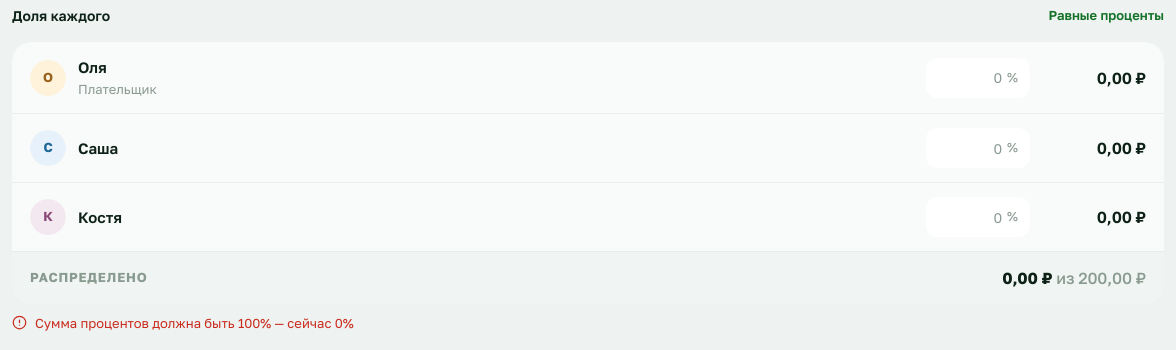
Test: SplitEditor — percentage mode › says the percentages must total 100% when they do not
Type "50" into the field named "Процент: Оля" at (978, 78), box [926,58,1030,98]
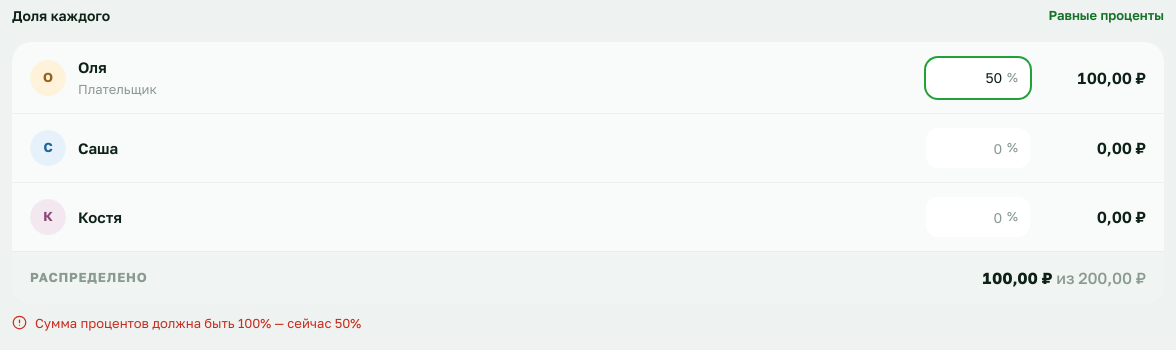
Type "30" into the field named "Процент: Саша" at (978, 148), box [926,128,1030,168]
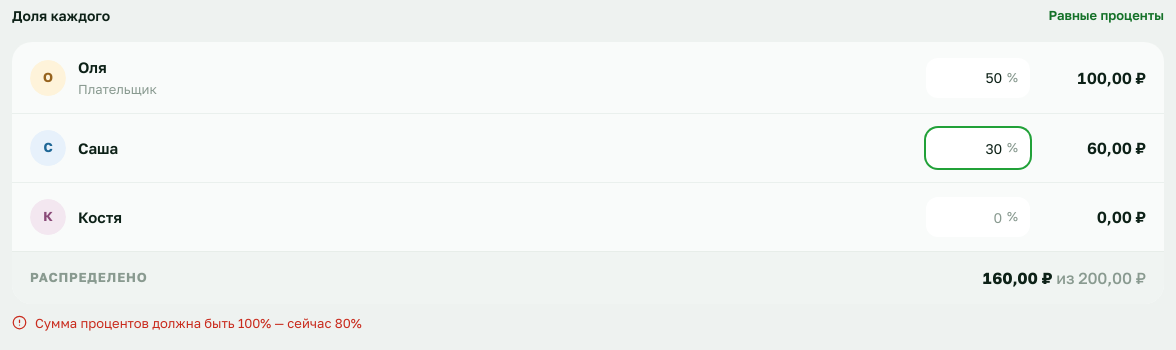
Type "10" into the field named "Процент: Костя" at (978, 217), box [926,197,1030,237]
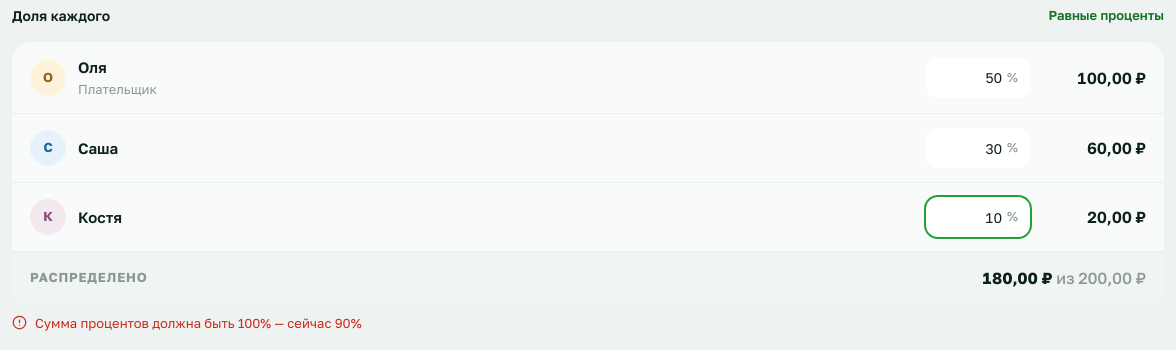
Expected: the text "Сумма процентов должна быть 100% — сейчас 90%" is shown, [35,314,362,334]
Now the text "20,00 ₽" is shown, box [1087,207,1146,227]
